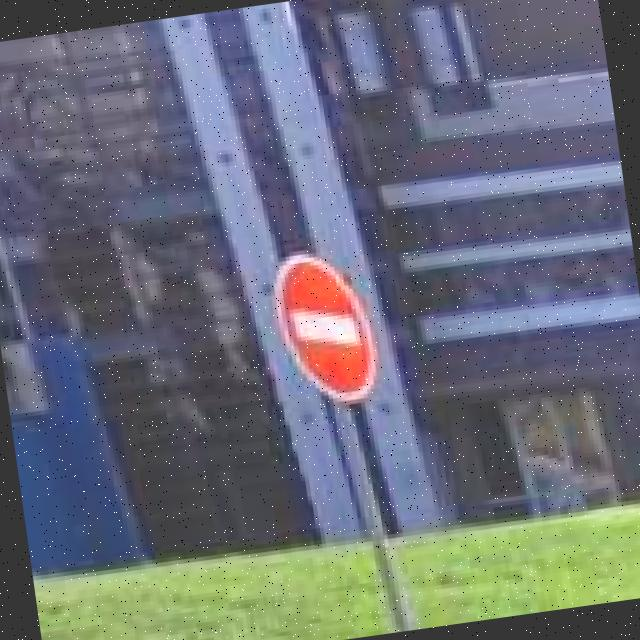Zakaz wjazdu: (266, 242, 384, 413)
